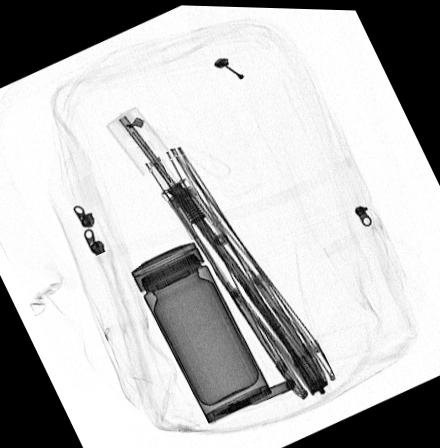Bullet: (212, 374, 295, 414)
